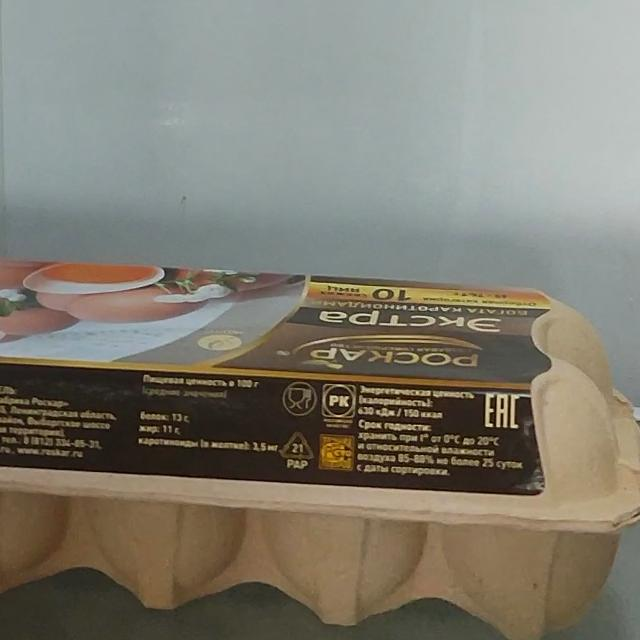egg: (0, 260, 640, 640)
